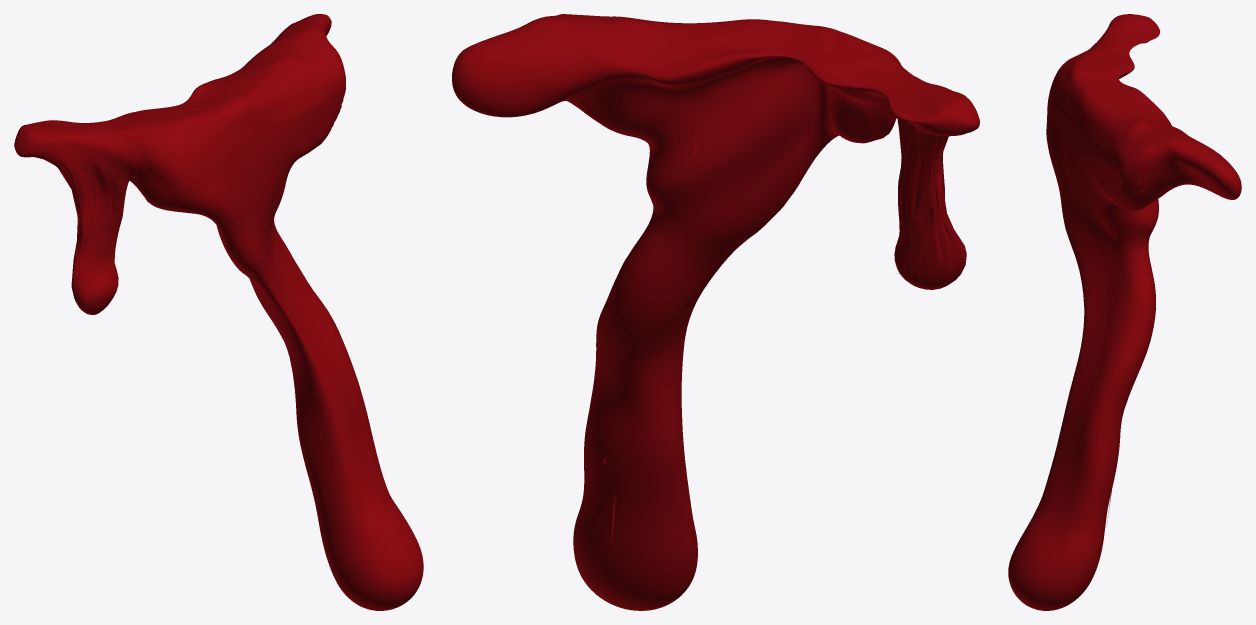
Rendered from Mask2Tear.fbx.
3 views of the same model, side by side, from view 1: azimuth 30°, elevation 25°; view 2: azimuth 150°, elevation 25°; view 3: azimuth 270°, elevation 25° (orthographic). The views are drawn at different scales.
Parts seen in each view (by area): view 1: Mball.007; view 2: Mball.007; view 3: Mball.007.
Part boxes in pixels (x1,y1,x2,y2): Mball.007: [14, 14, 423, 610]; Mball.007: [452, 14, 979, 610]; Mball.007: [1008, 14, 1241, 610].
Size of the model in its own units: 4.64 by 6.36 by 2.87.
